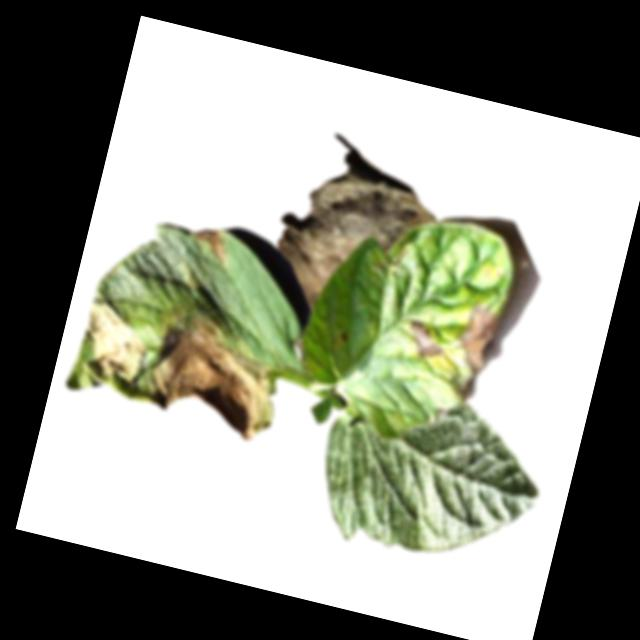Late_blight: (263, 160, 441, 334), (137, 293, 295, 445), (73, 297, 155, 389), (445, 296, 502, 377), (401, 317, 449, 362), (187, 222, 233, 264), (445, 371, 471, 399), (336, 329, 351, 345)
healthy: (304, 371, 557, 581)
